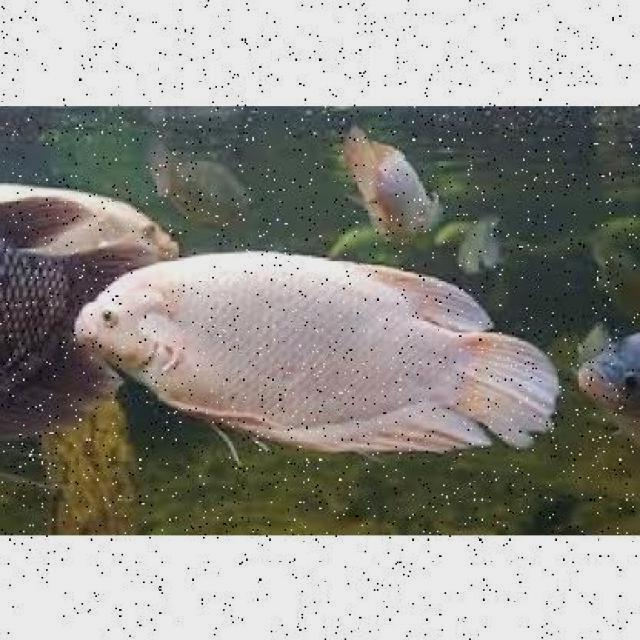gurame: (63, 254, 562, 448)
